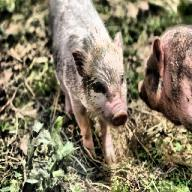boar: (48, 0, 128, 164)
